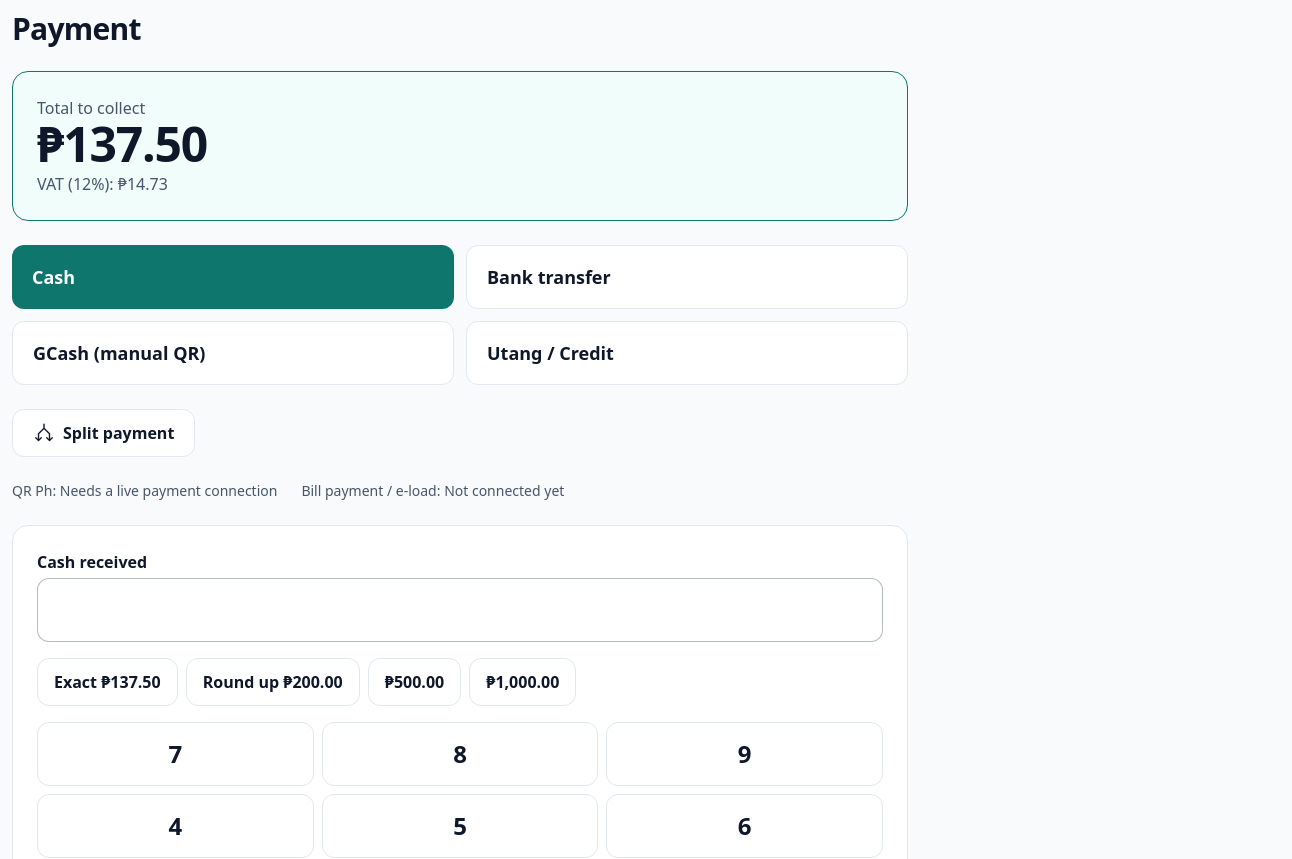
Test: PaymentPage › fills the tender from a quick amount and the keypad
Click the button "Exact ₱137.50".
click(107, 682)  # box [37,658,178,706]
(page scrolled)
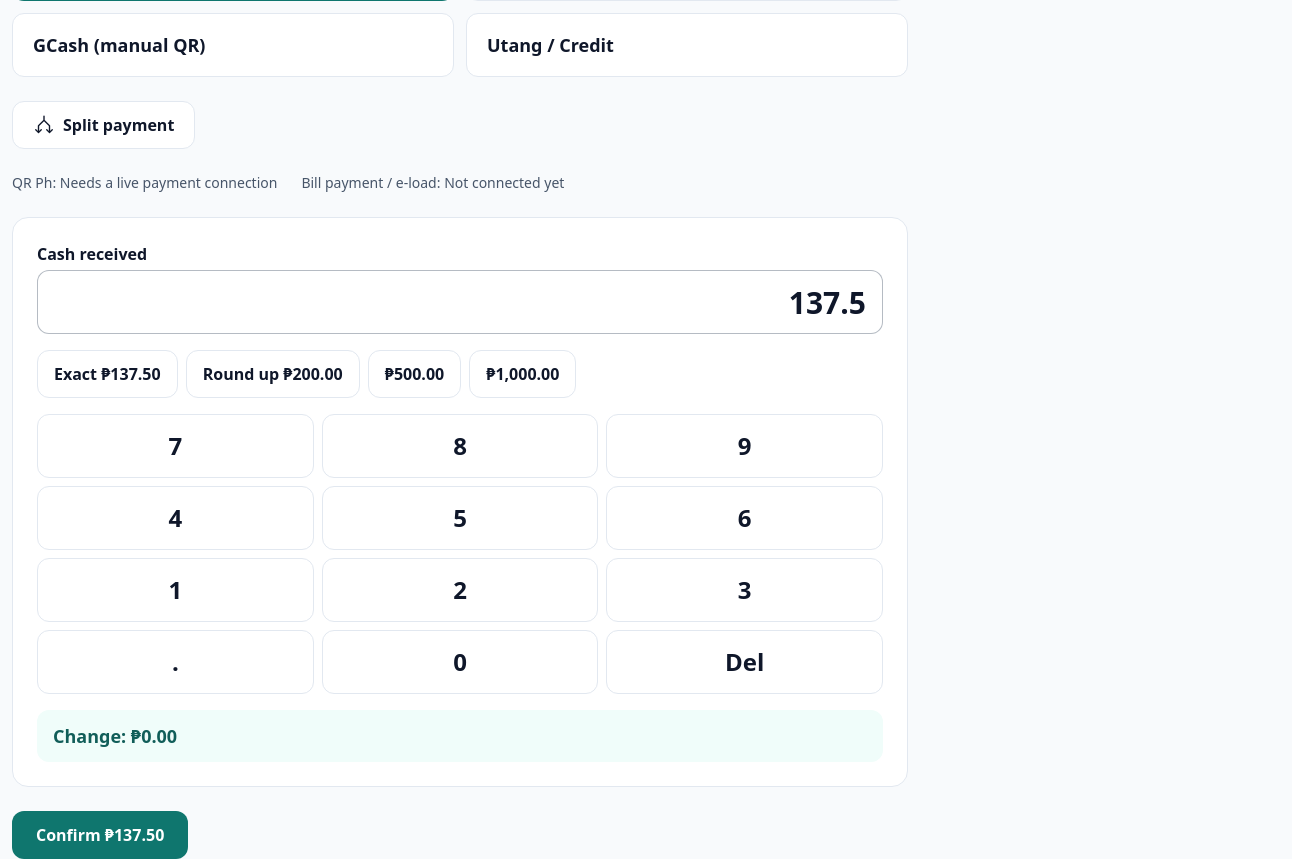
Expected: the field labelled "Cash received" holds "137.5", [37,270,883,334]
Click the button with aria-label "Delete last digit".
click(745, 662)  # box [606,630,883,694]
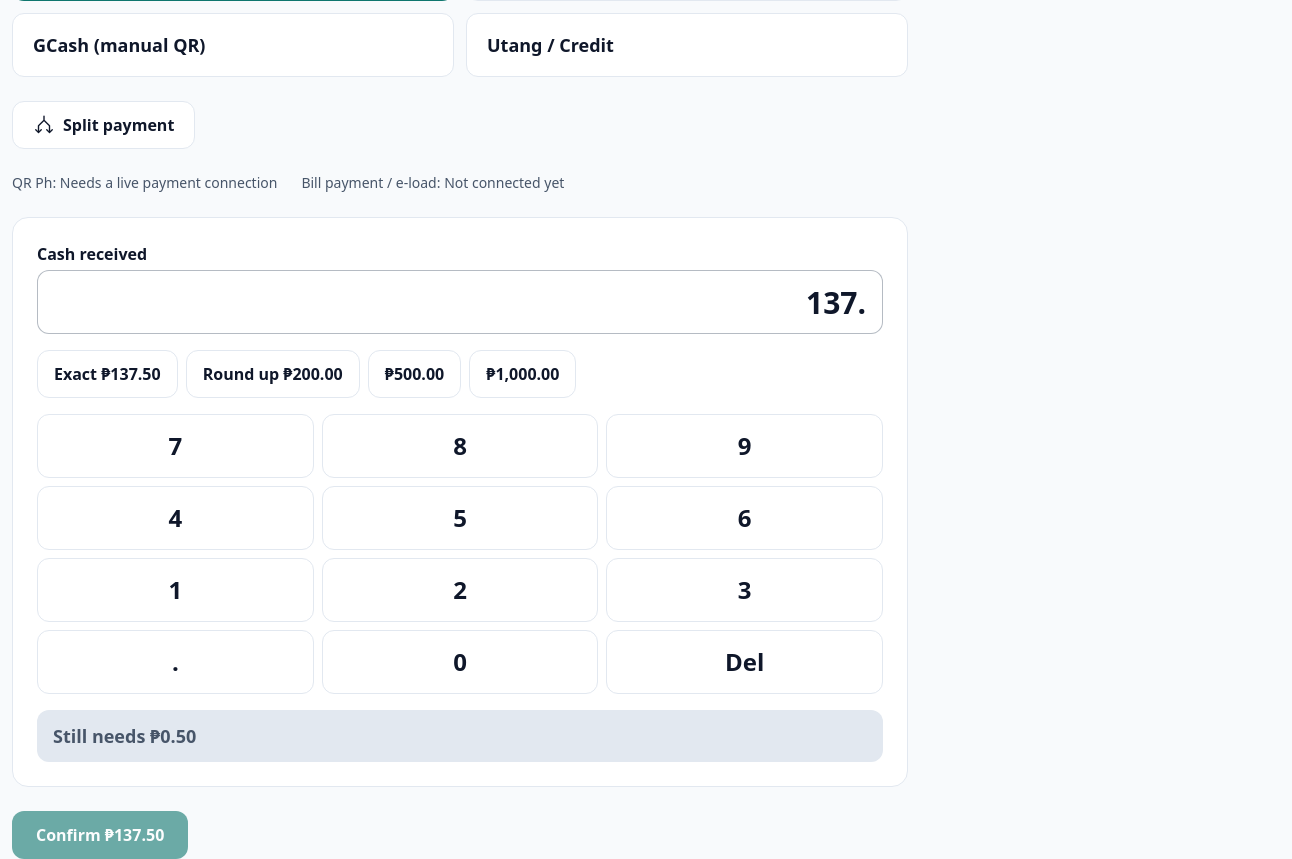
Expected: the field labelled "Cash received" holds "137.", [37,270,883,334]
Click the button "9".
click(745, 446)  # box [606,414,883,478]
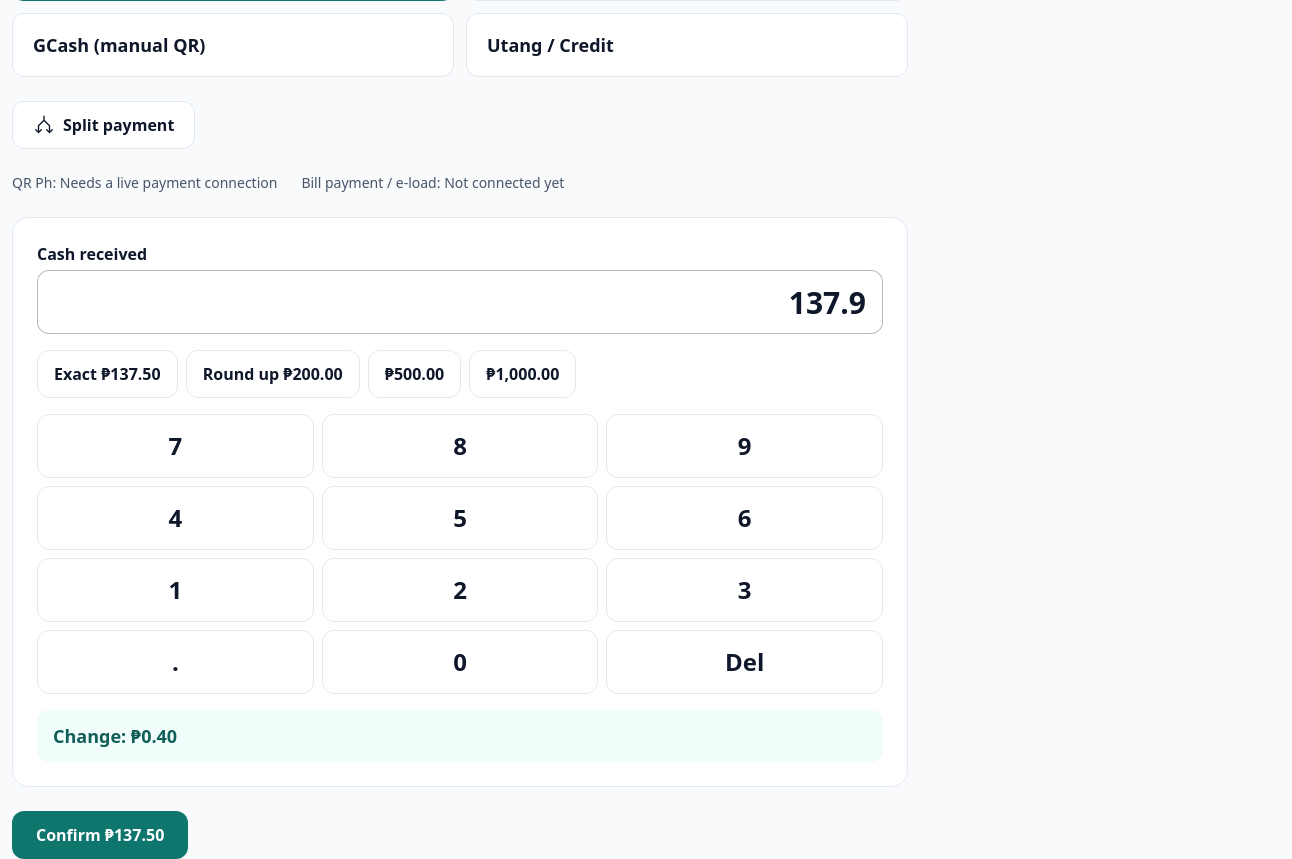
Expected: the field labelled "Cash received" holds "137.9", [37,270,883,334]
